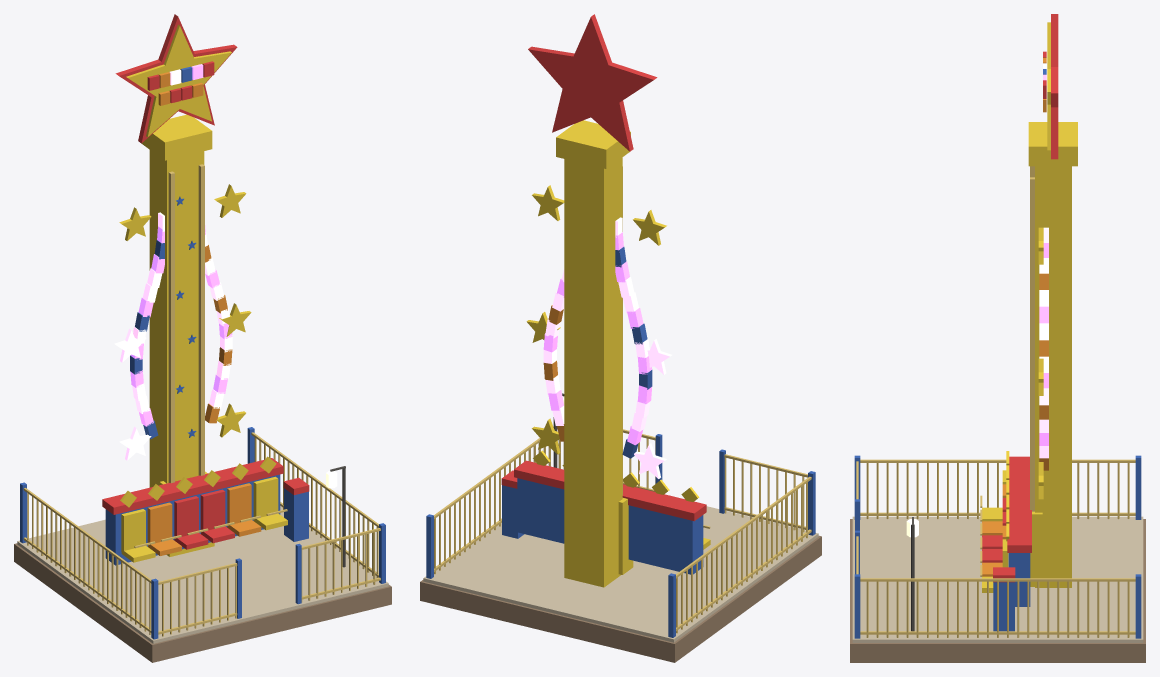
3 views of the same model, side by side, from view 1: azimuth 30°, elevation 25°; view 2: azimuth 150°, elevation 25°; view 3: azimuth 270°, elevation 25° (orthographic). The views are drawn at different scales.
Parts seen in each view (by area): view 1: base, lift0; view 2: base, lift0; view 3: base, lift0.
Part boxes in pixels (box(x1,y1,x2,y2)): base: box(14, 14, 391, 662); lift0: box(102, 456, 287, 565); base: box(420, 14, 821, 662); lift0: box(514, 450, 710, 574); base: box(850, 14, 1145, 662); lift0: box(980, 451, 1042, 606).
Bounding box in the file's own units: 4.8 × 10.5 × 4.8.
